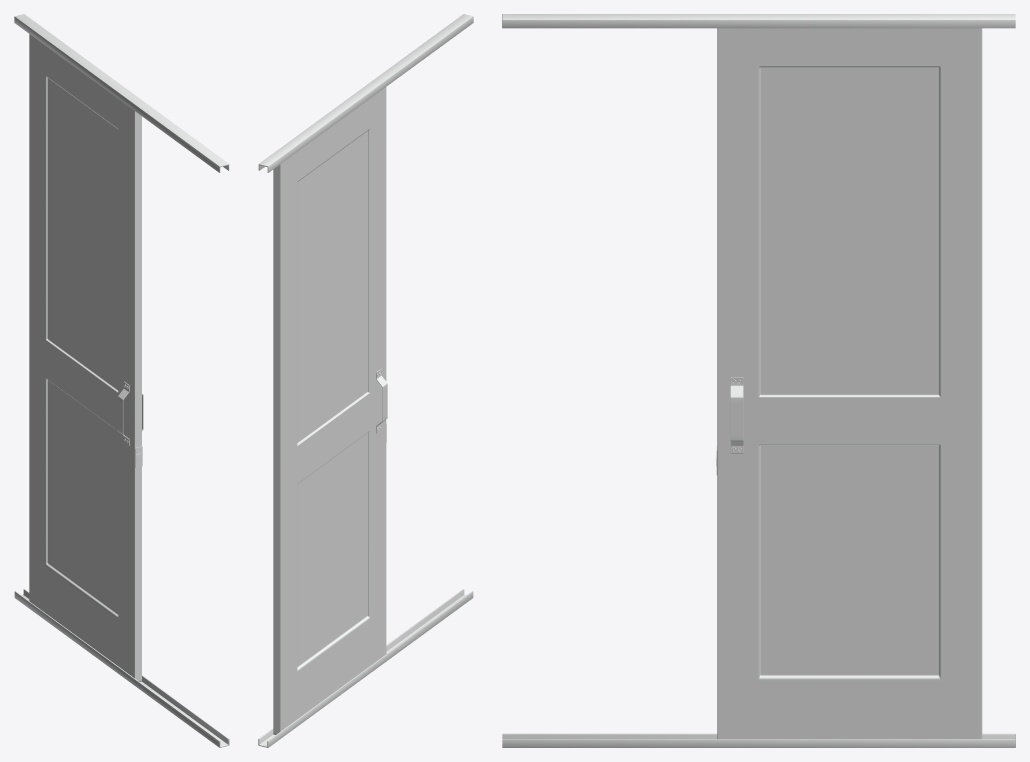
File: PuertaCorrediza2.glb
The picture shows the model from 3 angles, left to right: view 1: azimuth 30°, elevation 25°; view 2: azimuth 150°, elevation 25°; view 3: azimuth 270°, elevation 25°; orthographic projection. The views are drawn at different scales.
Parts seen in each view (by area): view 1: PuertaCorrediza2; view 2: PuertaCorrediza2; view 3: PuertaCorrediza2.
Part boxes in pixels (x1,y1,x2,y2): PuertaCorrediza2: [14, 14, 229, 747]; PuertaCorrediza2: [258, 14, 473, 747]; PuertaCorrediza2: [502, 14, 1015, 747].
Size of the model in its own units: 7.15 by 191 by 122.
1 material, 1 textured.
